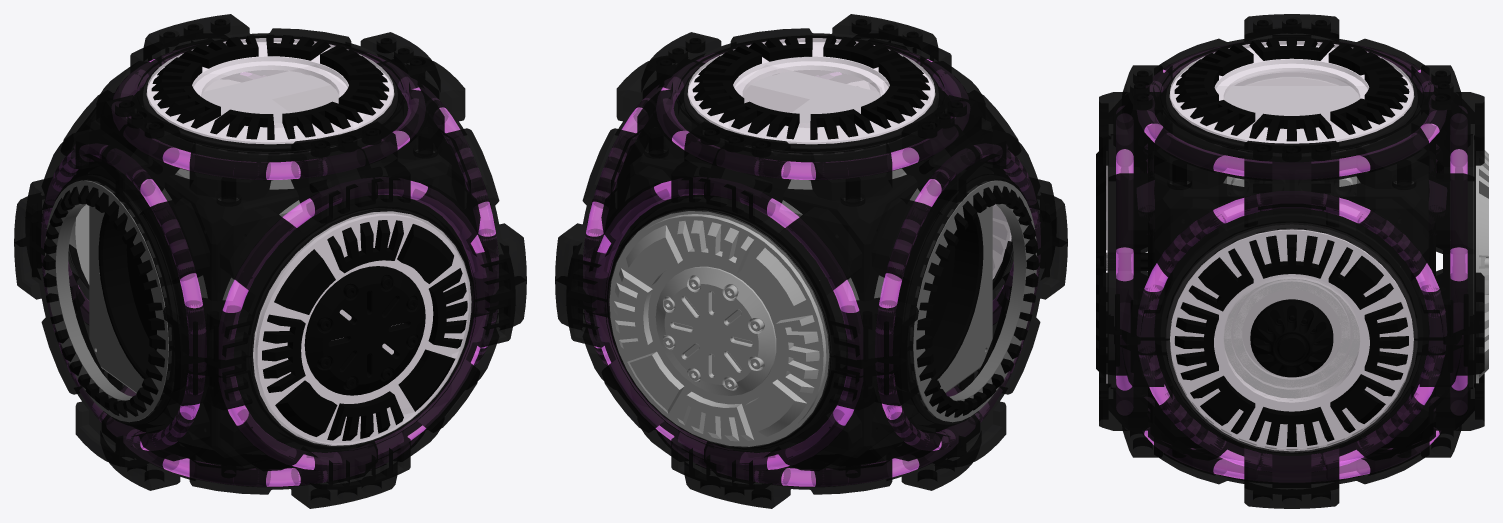
The picture shows the model from 3 angles, left to right: view 1: azimuth 30°, elevation 25°; view 2: azimuth 150°, elevation 25°; view 3: azimuth 270°, elevation 25°; orthographic projection.
Parts seen in each view (by area): view 1: Atom box v26, Atom box v26.023, Atom box v26.126, Atom box v26.118, Atom box v26.117, Atom box v26.062, Atom box v26.148, Atom box v26.077, Atom box v26.011, Atom box v26.063, Atom box v26.064, Atom box v26.149 (+26 smaller); view 2: Atom box v26, Atom box v26.032, Atom box v26.023, Atom box v26.062, Atom box v26.077, Atom box v26.148, Atom box v26.012, Atom box v26.063, Atom box v26.064, Atom box v26.149, Atom box v26.046, Atom box v26.045 (+17 smaller); view 3: Atom box v26, Atom box v26.023, Atom box v26.052, Atom box v26.051, Atom box v26.050, Atom box v26.062, Atom box v26.037, Atom box v26.064, Atom box v26.063, Atom box v26.014, Atom box v26.149, Atom box v26.040 (+26 smaller).
Part boxes in pixels (box(x1,y1,x2,y2)): Atom box v26: box(14, 14, 526, 368); Atom box v26.023: box(14, 243, 526, 508); Atom box v26.126: box(304, 266, 425, 395); Atom box v26.118: box(255, 213, 471, 444); Atom box v26.117: box(253, 211, 471, 445); Atom box v26.062: box(193, 61, 347, 154); Atom box v26.148: box(89, 83, 451, 438); Atom box v26.077: box(44, 180, 171, 422); Atom box v26.011: box(222, 181, 485, 469); Atom box v26.063: box(146, 42, 394, 143); Atom box v26.064: box(147, 38, 393, 144); Atom box v26.149: box(164, 71, 434, 214); Atom box v26: box(555, 14, 1067, 368); Atom box v26.032: box(609, 210, 829, 447); Atom box v26.023: box(555, 237, 1067, 508); Atom box v26.062: box(734, 61, 888, 154); Atom box v26.077: box(910, 180, 1037, 422); Atom box v26.148: box(743, 83, 992, 383); Atom box v26.012: box(596, 181, 859, 469); Atom box v26.063: box(687, 42, 935, 143); Atom box v26.064: box(688, 38, 934, 144); Atom box v26.149: box(664, 71, 917, 214); Atom box v26.046: box(943, 214, 983, 328); Atom box v26.045: box(925, 260, 968, 380); Atom box v26: box(1099, 14, 1484, 344); Atom box v26.023: box(1099, 202, 1484, 508); Atom box v26.052: box(1170, 228, 1413, 451); Atom box v26.051: box(1167, 225, 1416, 452); Atom box v26.050: box(1223, 277, 1359, 400); Atom box v26.062: box(1216, 64, 1367, 151); Atom box v26.037: box(1250, 299, 1333, 377); Atom box v26.064: box(1170, 41, 1413, 143); Atom box v26.063: box(1169, 45, 1414, 142); Atom box v26.014: box(1139, 196, 1444, 466); Atom box v26.149: box(1170, 86, 1413, 183); Atom box v26.040: box(1233, 279, 1349, 387).
Bounding box in the file's own units: 0.4145 × 0.4007 × 0.402.
